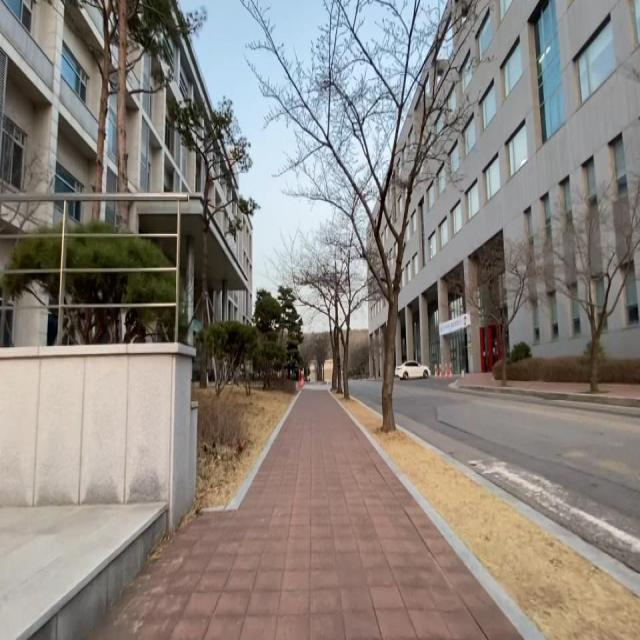sidewalk: (86, 389, 525, 640), (507, 381, 640, 400), (463, 372, 501, 386)
